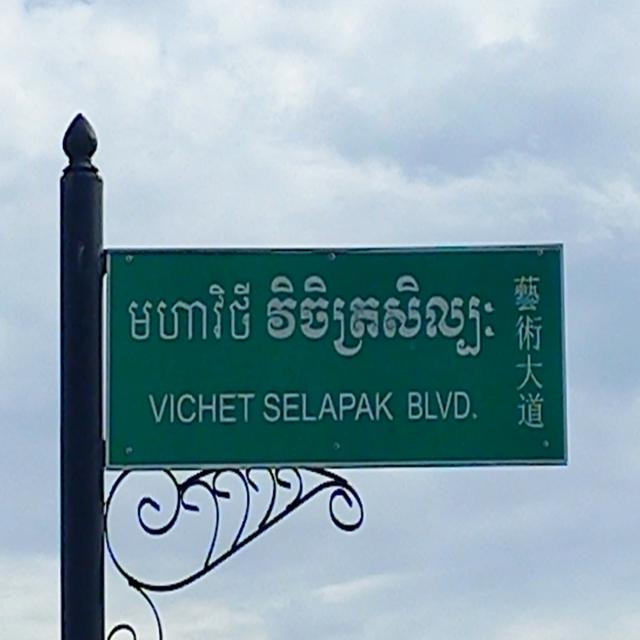Yolov11_80vkh: (122, 270, 504, 366)
